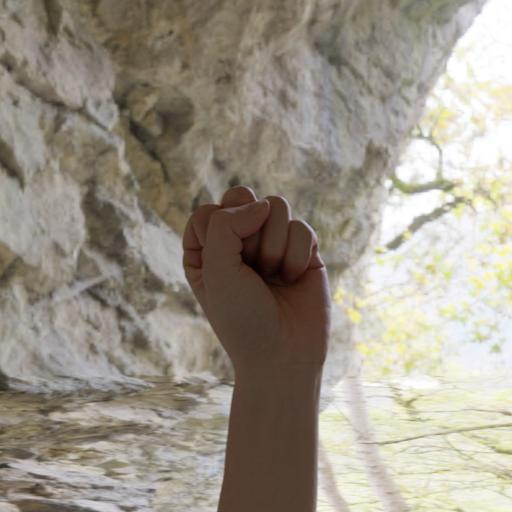S: (178, 178, 338, 370)
